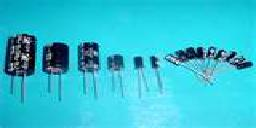Electrolytic-capacitor: (4, 33, 38, 104), (42, 39, 73, 103), (76, 40, 103, 102), (104, 53, 128, 96), (147, 53, 168, 95), (132, 57, 147, 102), (164, 53, 182, 68)
